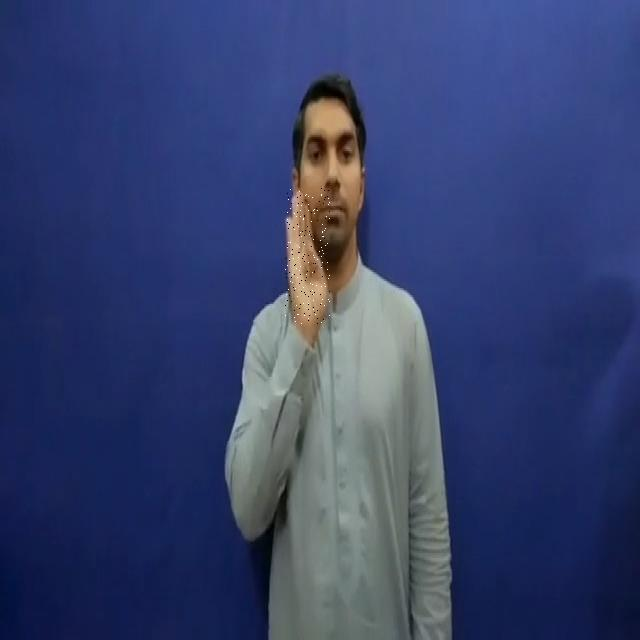napkin: (285, 188, 330, 324)
